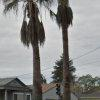Palm tree: (16, 1, 79, 95)
